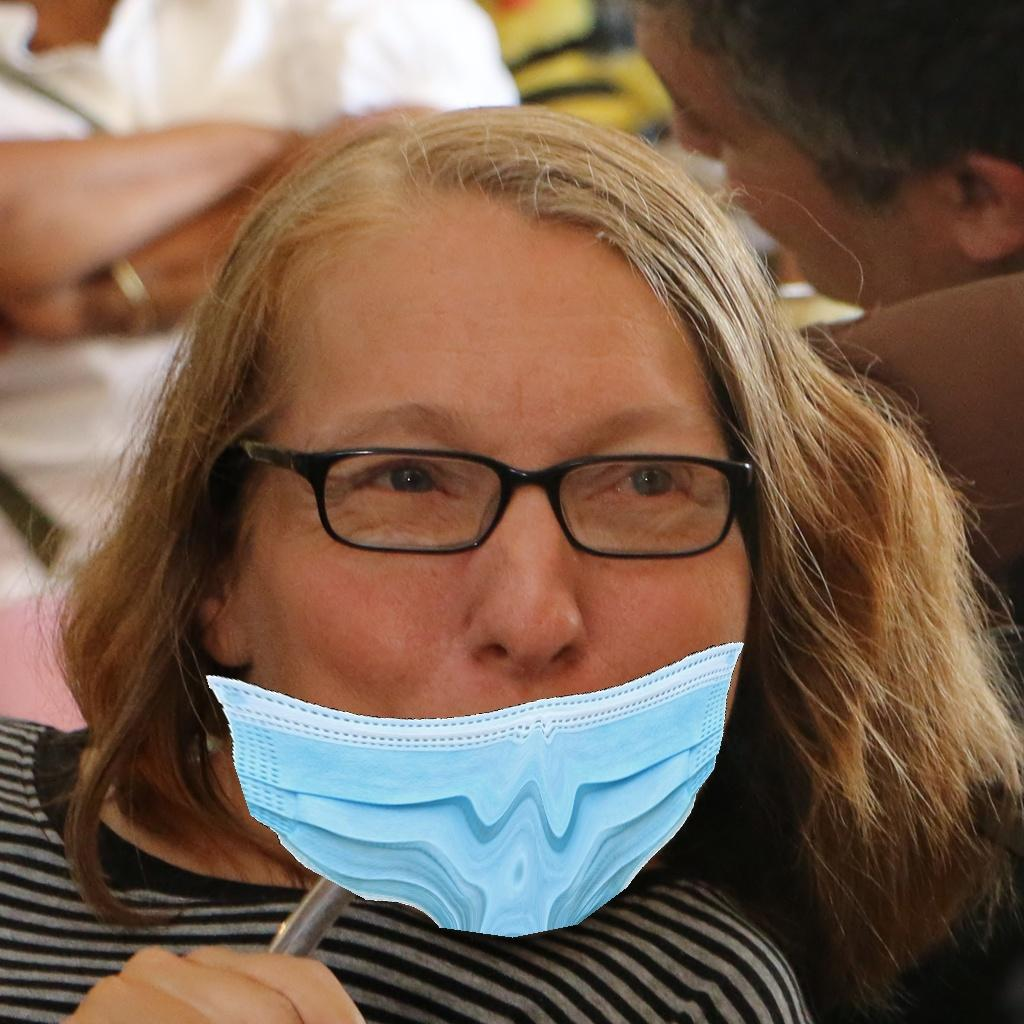Máscara Incorreta: (255, 258, 763, 939)
